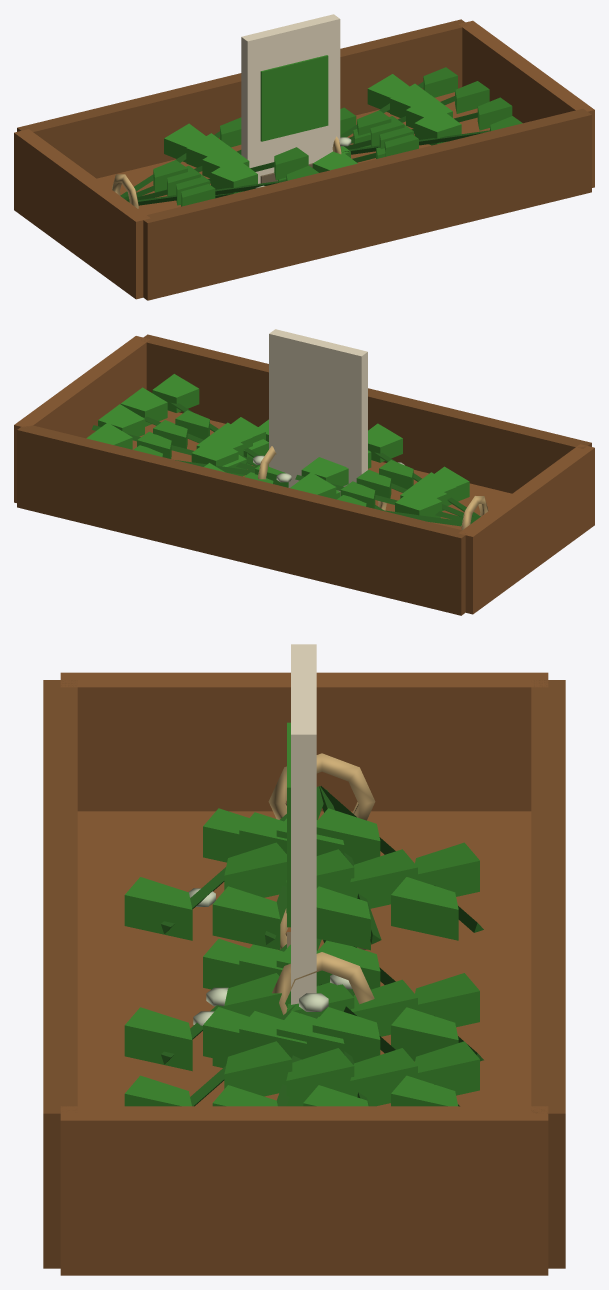
The model's file is Crop_Basil.fbx.
3 renders of one model, top to bottom at view 1: azimuth 30°, elevation 25°; view 2: azimuth 150°, elevation 25°; view 3: azimuth 270°, elevation 25°, orthographic. The views are drawn at different scales.
Parts seen in each view (by area): view 1: Crop_Basil__Stack, Crop_Basil__Seed, Crop_Basil; view 2: Crop_Basil__Stack, Crop_Basil__Seed, Crop_Basil; view 3: Crop_Basil__Stack, Crop_Basil, Crop_Basil__Seed, Crop_Basil__Rotten.
Boxes of the visible parts, <box> form: Crop_Basil__Stack: <box>14,19,594,300</box>; Crop_Basil__Seed: <box>241,14,340,183</box>; Crop_Basil: <box>215,107,385,198</box>; Crop_Basil__Stack: <box>14,334,594,615</box>; Crop_Basil__Seed: <box>269,329,367,496</box>; Crop_Basil: <box>204,419,386,510</box>; Crop_Basil__Stack: <box>43,672,565,1275</box>; Crop_Basil: <box>124,908,483,1071</box>; Crop_Basil__Seed: <box>287,644,316,1004</box>; Crop_Basil__Rotten: <box>188,888,352,1025</box>.
Size of the model in its own units: 0.2479 by 0.09 by 0.1221.
